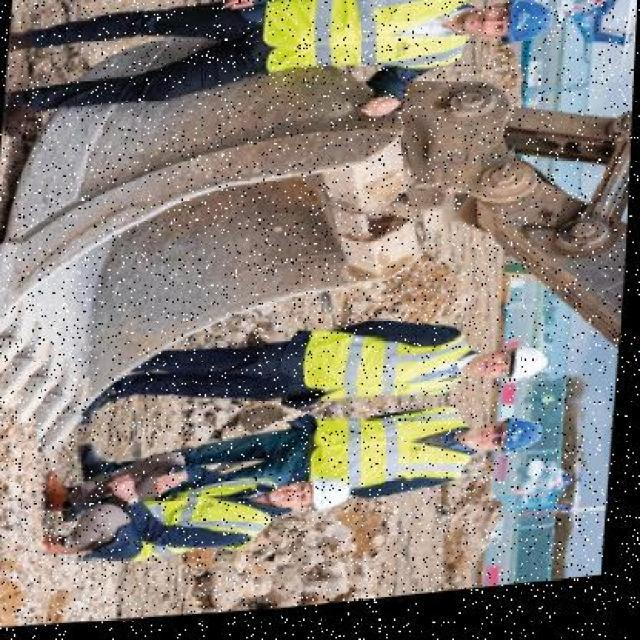helmet: (483, 0, 565, 60), (489, 424, 547, 474), (500, 351, 558, 394), (305, 483, 360, 517)
vest: (160, 405, 478, 533), (234, 0, 475, 110), (285, 331, 491, 426), (109, 474, 278, 568)
